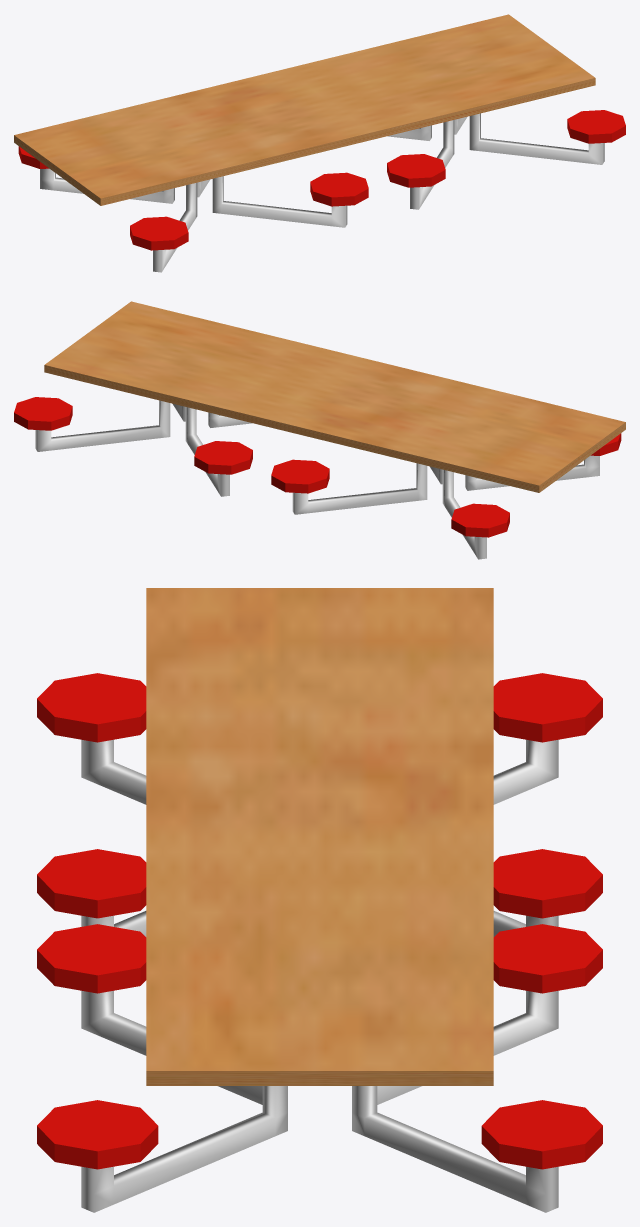
The model's file is LunchTable2.glb.
3 renders of one model, top to bottom at view 1: azimuth 30°, elevation 25°; view 2: azimuth 150°, elevation 25°; view 3: azimuth 270°, elevation 25°, orthographic. The views are drawn at different scales.
Visible parts, largest first — view 1: Cube_001, Cube, Cube_002, Cylinder_001, Cylinder_002; view 2: Cube_001, Cube, Cube_002, Cylinder_001, Cylinder_002; view 3: Cube_001, Cylinder_002, Cylinder_001, Cube_002, Cube.
Part boxes in pixels (<box>): Cube_001: <box>14,14,595,205</box>; Cube: <box>40,168,347,272</box>; Cube_002: <box>388,113,604,209</box>; Cylinder_001: <box>18,146,368,250</box>; Cylinder_002: <box>387,110,625,187</box>; Cube_001: <box>44,301,625,492</box>; Cube: <box>292,455,599,559</box>; Cube_002: <box>35,400,251,496</box>; Cylinder_001: <box>271,433,621,537</box>; Cylinder_002: <box>14,397,252,474</box>; Cube_001: <box>146,588,493,1085</box>; Cylinder_002: <box>37,924,602,1169</box>; Cylinder_001: <box>37,673,602,918</box>; Cube_002: <box>81,990,558,1212</box>; Cube: <box>81,739,558,936</box>.
Size of the model in its own units: 6.06 by 0.8279 by 2.91.
3 materials, 1 textured.
